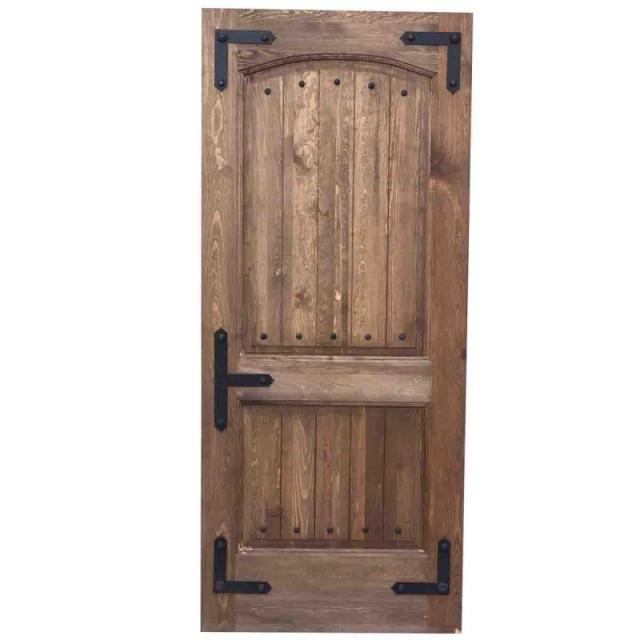door: (200, 10, 470, 633)
